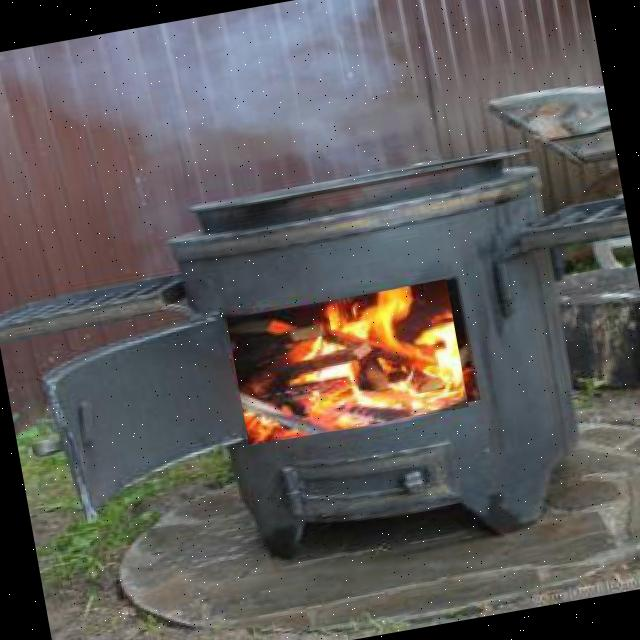fire: (226, 278, 468, 446)
